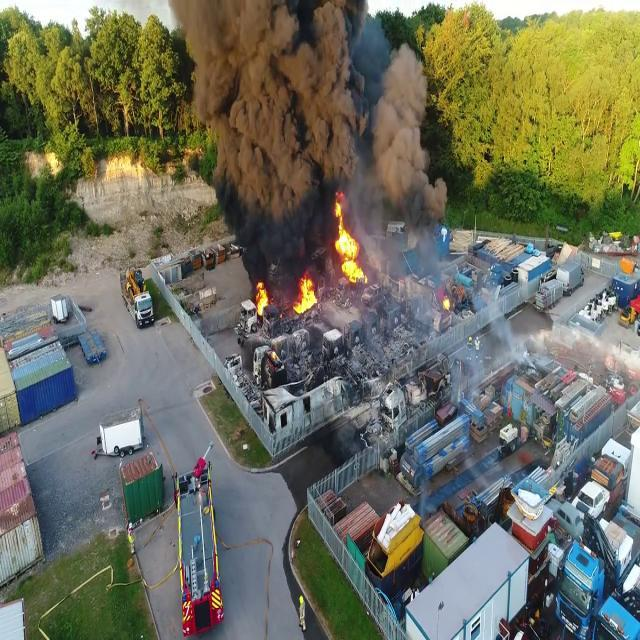Fire: (331, 195, 367, 283), (294, 270, 318, 316), (253, 278, 271, 318)
Smoke: (186, 0, 450, 278)
